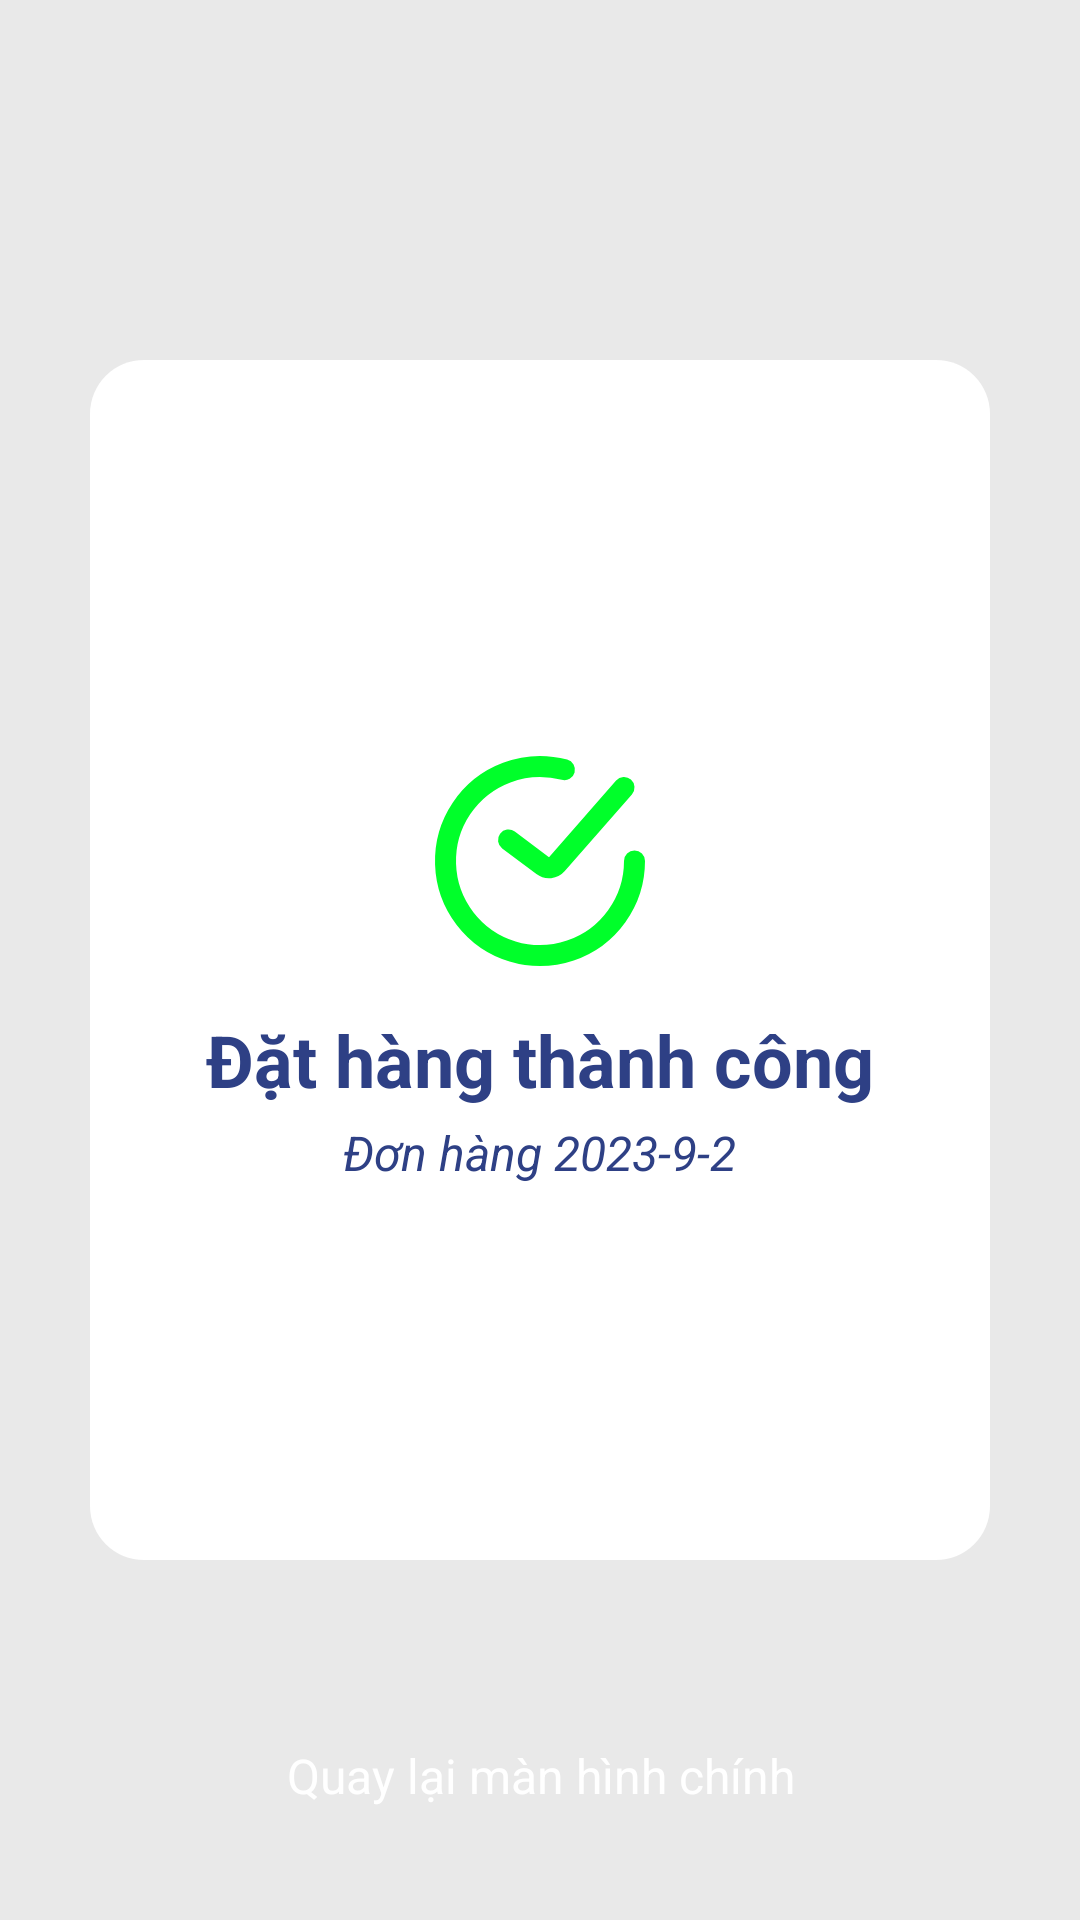

Point at icon controls on the screen. Image size 1080×1920, points as (x=x, y=y).
done: (x=540, y=861)
